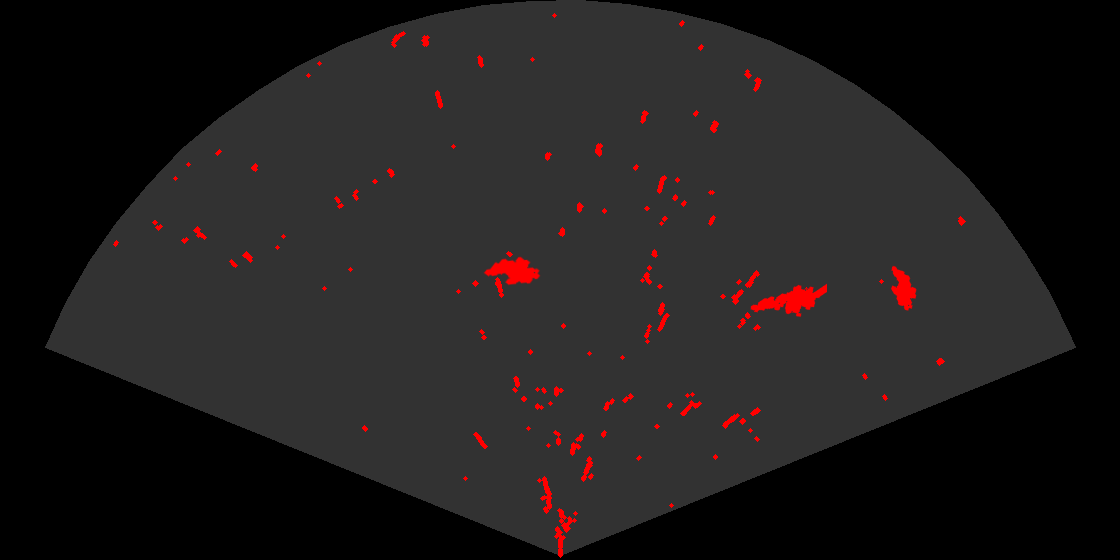AUV: (482, 255, 542, 287), (889, 264, 918, 312)
frogman: (749, 282, 827, 318)
